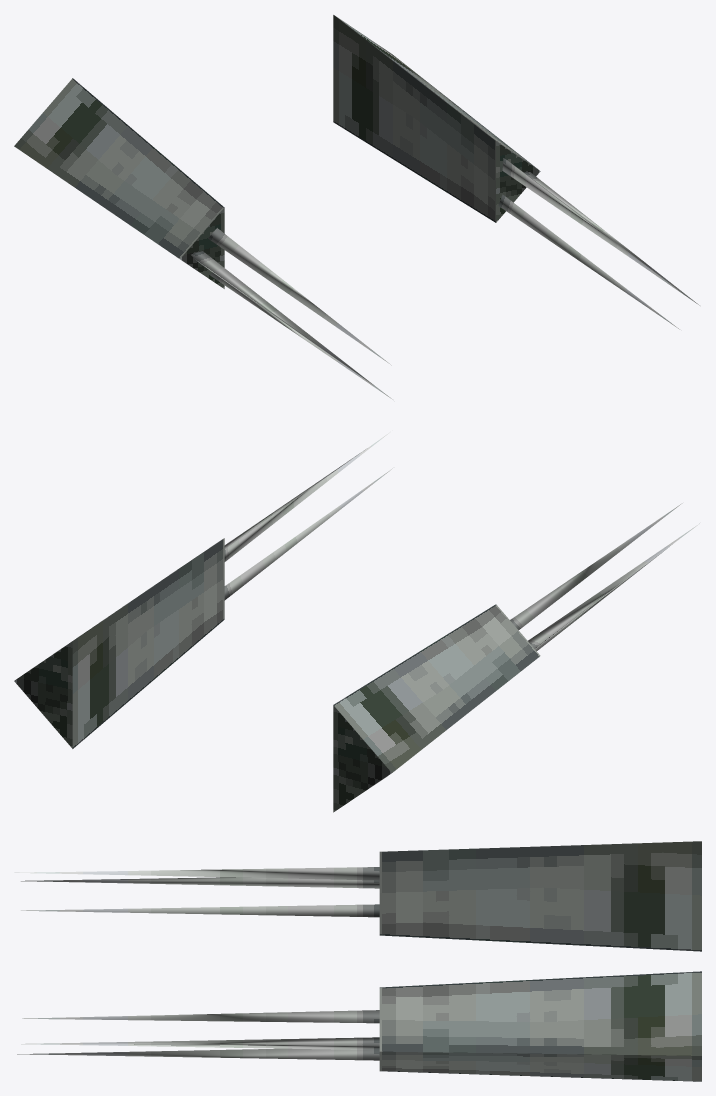
The model's file is bwing_weapon1_s04_l3.fbx.
3 renders of one model, top to bottom at view 1: azimuth 30°, elevation 25°; view 2: azimuth 150°, elevation 25°; view 3: azimuth 270°, elevation 25°, orthographic. The views are drawn at different scales.
Visible parts, largest first — view 1: mesh_node; view 2: mesh_node; view 3: mesh_node.
Part boxes in pixels (x1=…): mesh_node: x1=14, y1=15, x2=699, y2=399; mesh_node: x1=14, y1=432, x2=699, y2=812; mesh_node: x1=14, y1=841, x2=701, y2=1081.
Size of the model in its own units: 0.9021 by 0.2457 by 1.39.
1 material, 1 textured.
